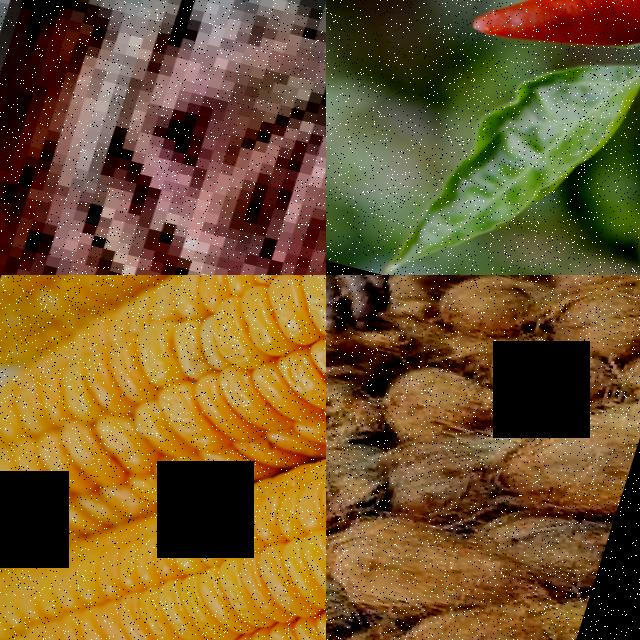chilli: (462, 0, 640, 94)
coconut: (327, 500, 528, 630), (486, 326, 630, 422), (376, 590, 587, 640), (326, 434, 378, 552)
corn: (0, 275, 326, 640)
